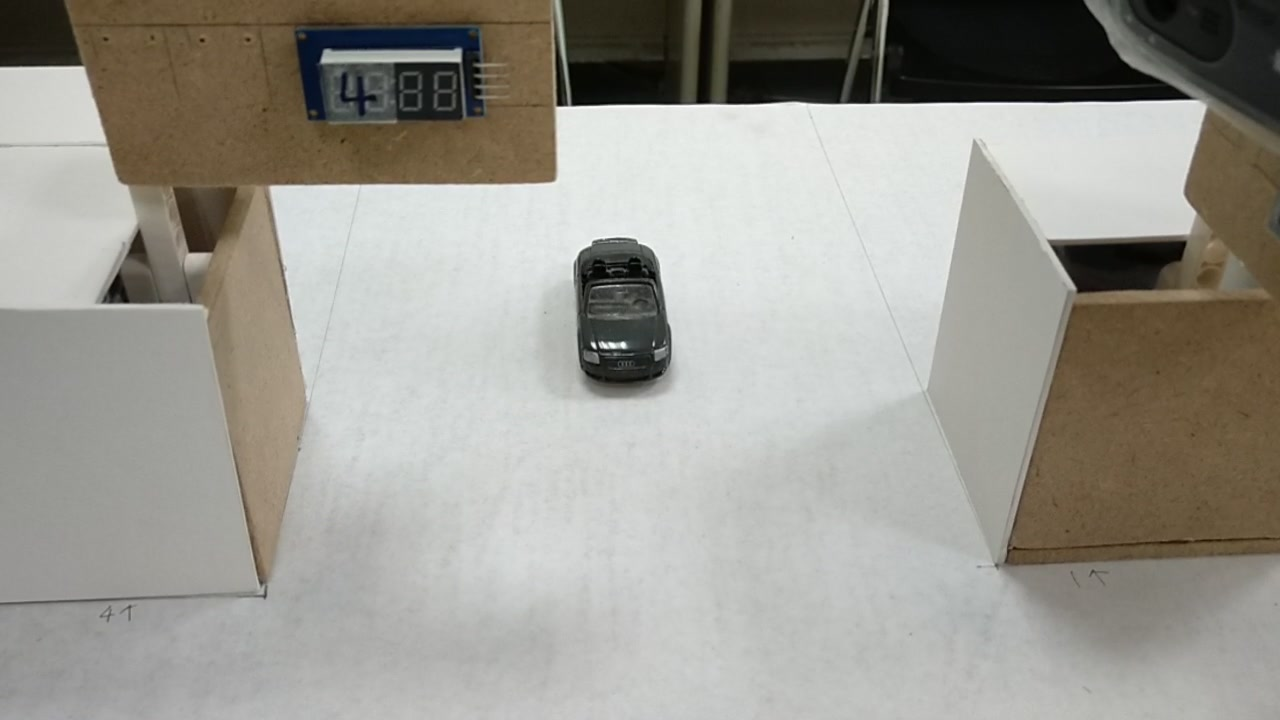car: (571, 231, 671, 379)
